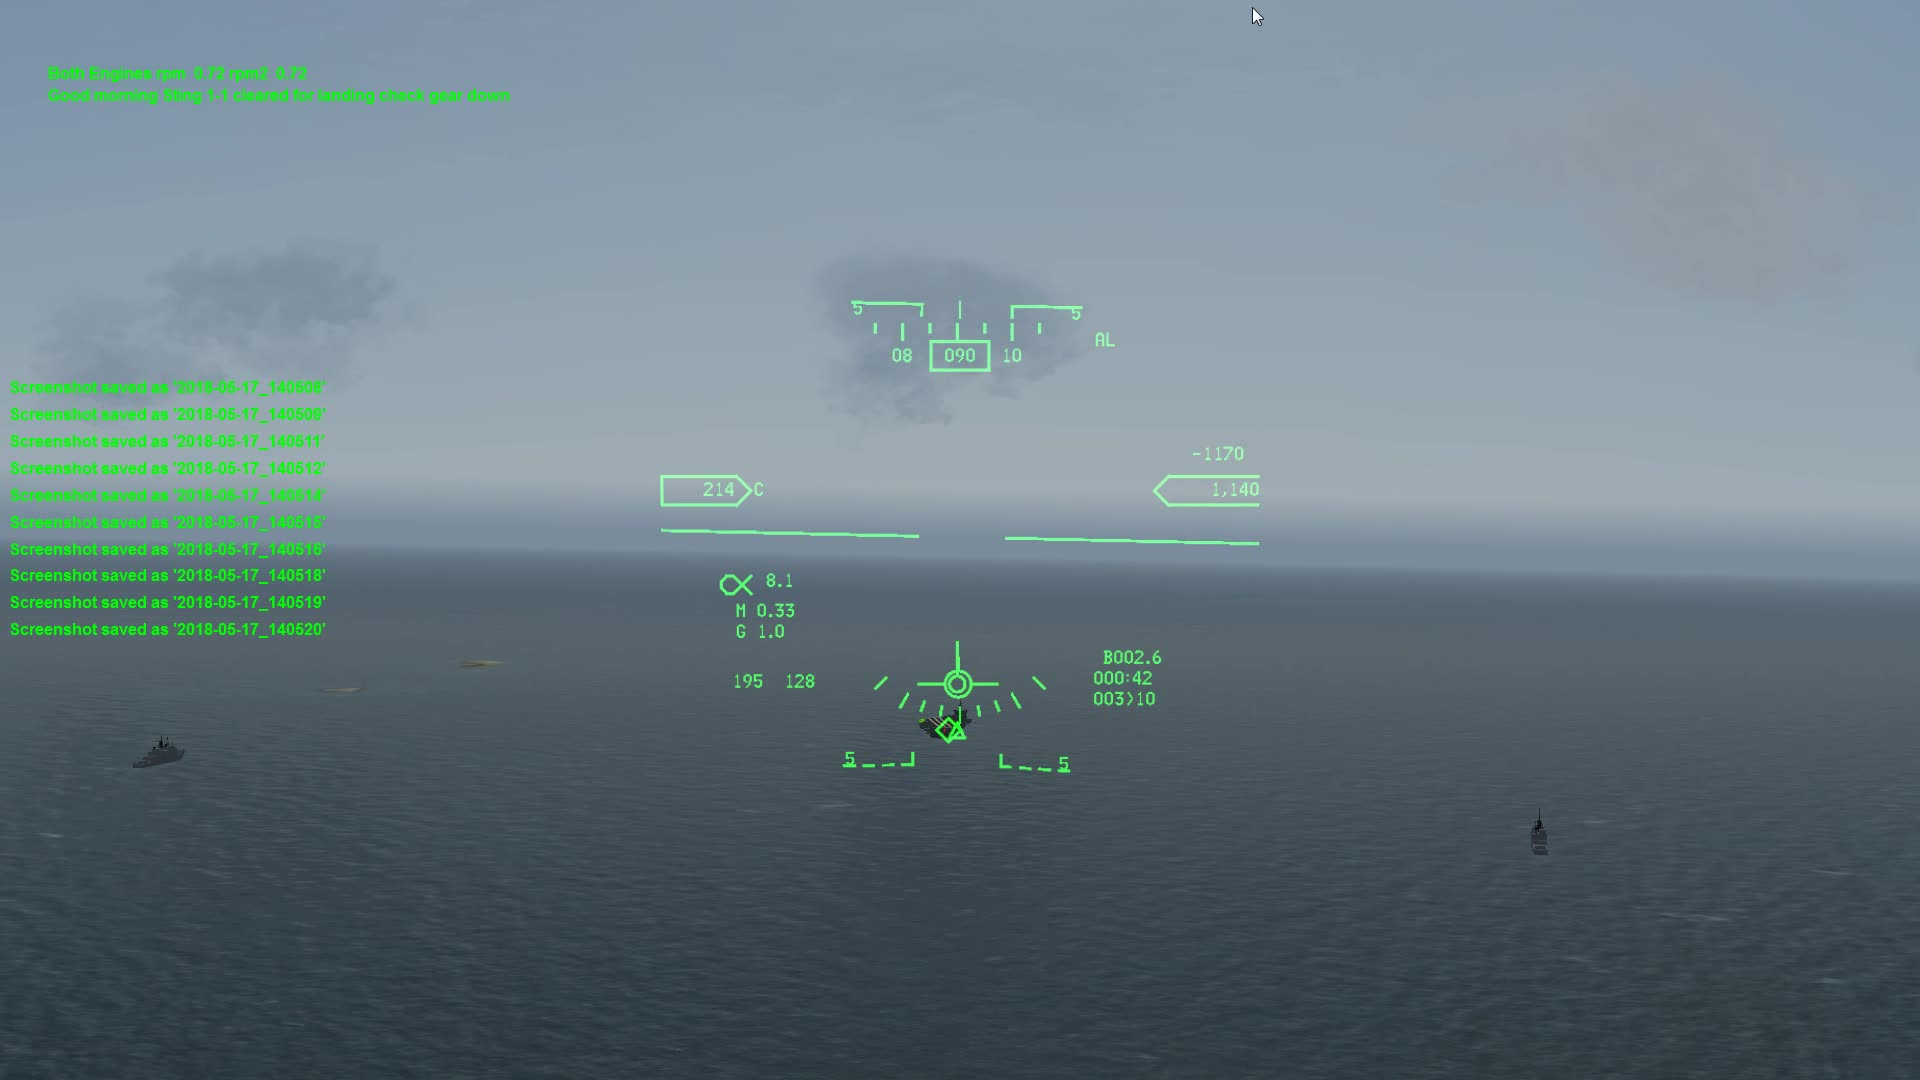speed vector: (918, 645, 1001, 709)
